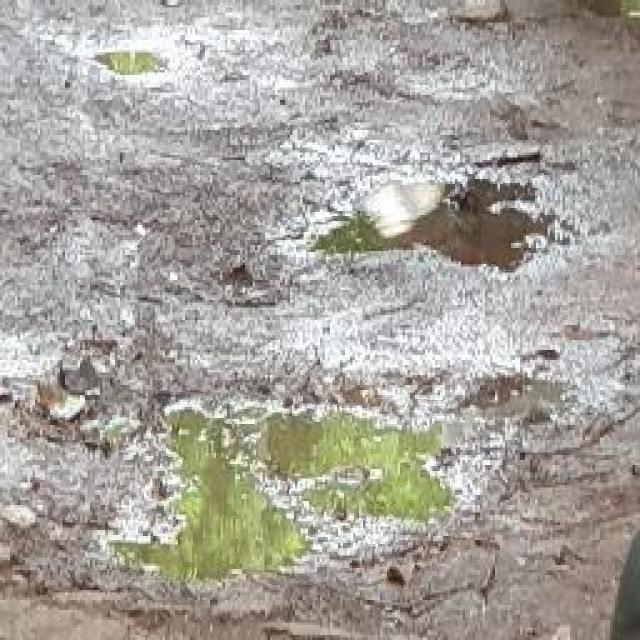puddle: (110, 393, 457, 588), (291, 171, 545, 275)
